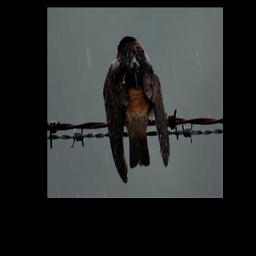Swallow: (102, 35, 171, 185)
